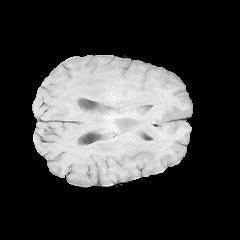glioma: (86, 75, 170, 134)
